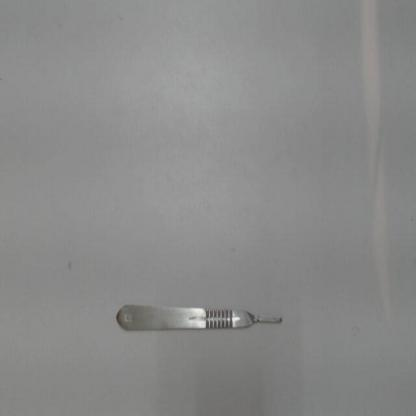No.3 BP Handle: (110, 303, 287, 344)
